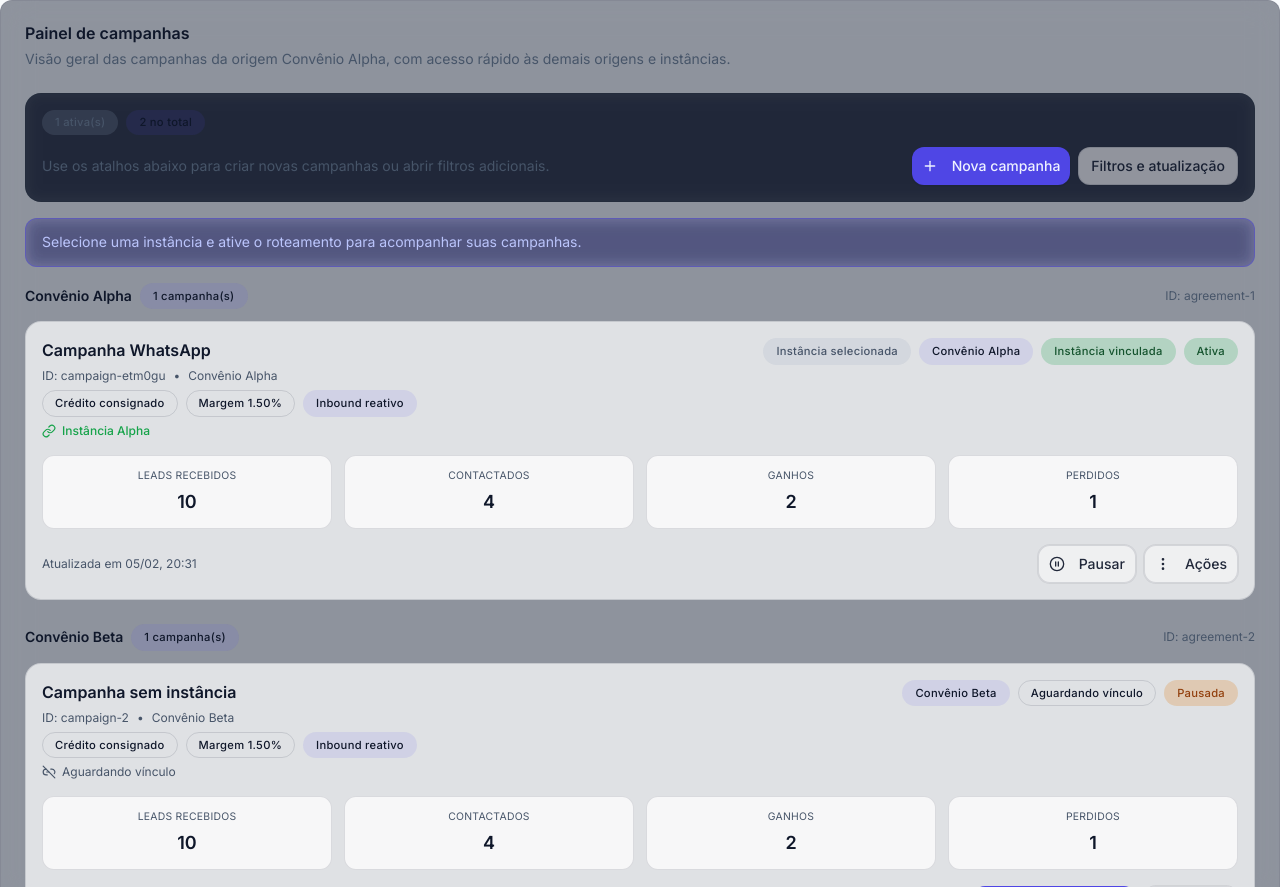
CampaignsPanel › exibe convênio, estado de vínculo e permite desvincular a instância
This screenshot has width=1280, height=887.
Expected: the text "Convênio Alpha" is shown, [25,50,730,67]
Expected: the text "Convênio Beta" in the row of "agreement-2" is shown, [25,628,123,645]
Click the button "Ações" below "Instância selecionada": (1191, 564) [1144,545,1238,583]
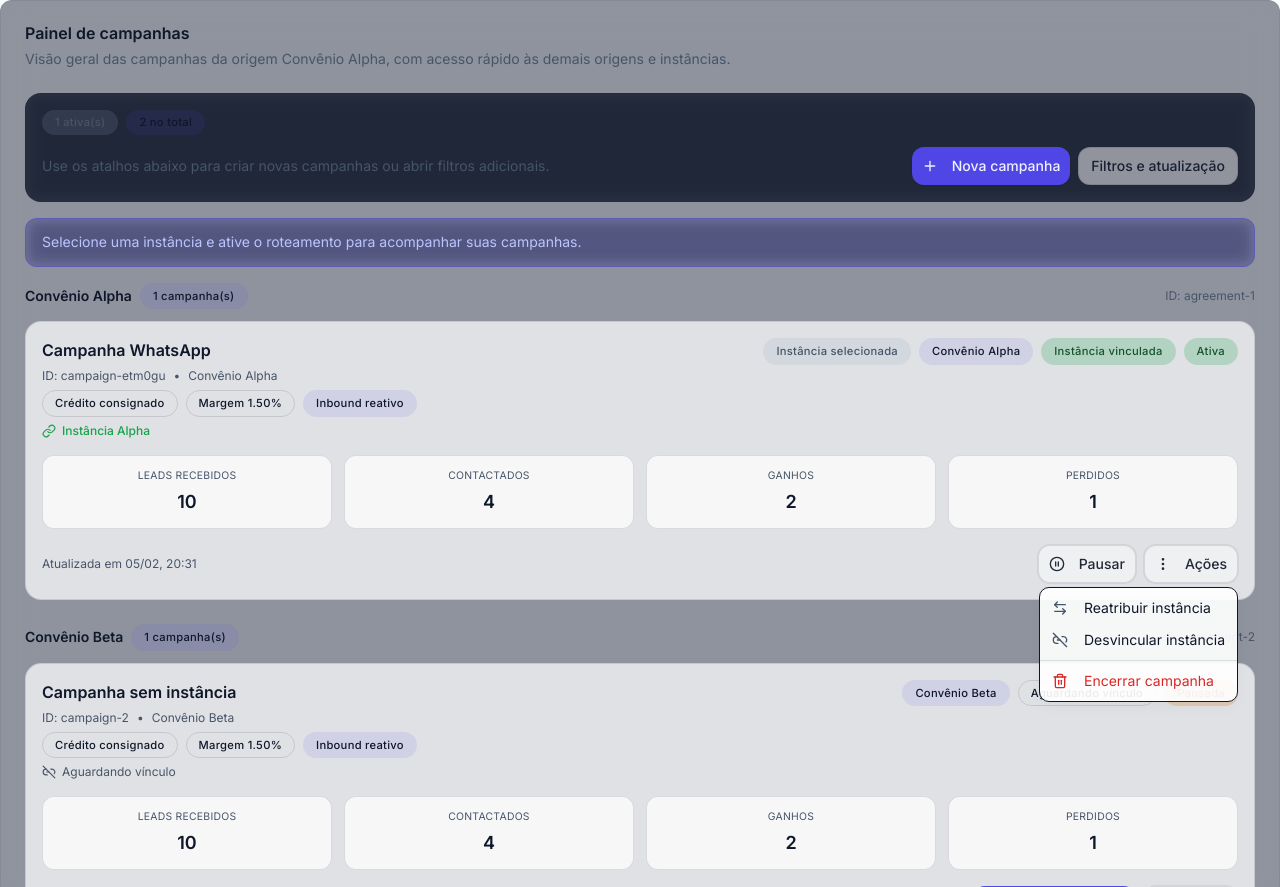
Click the menu item "Desvincular instância": (1138, 640) [1052,631,1225,648]
(page scrolled)
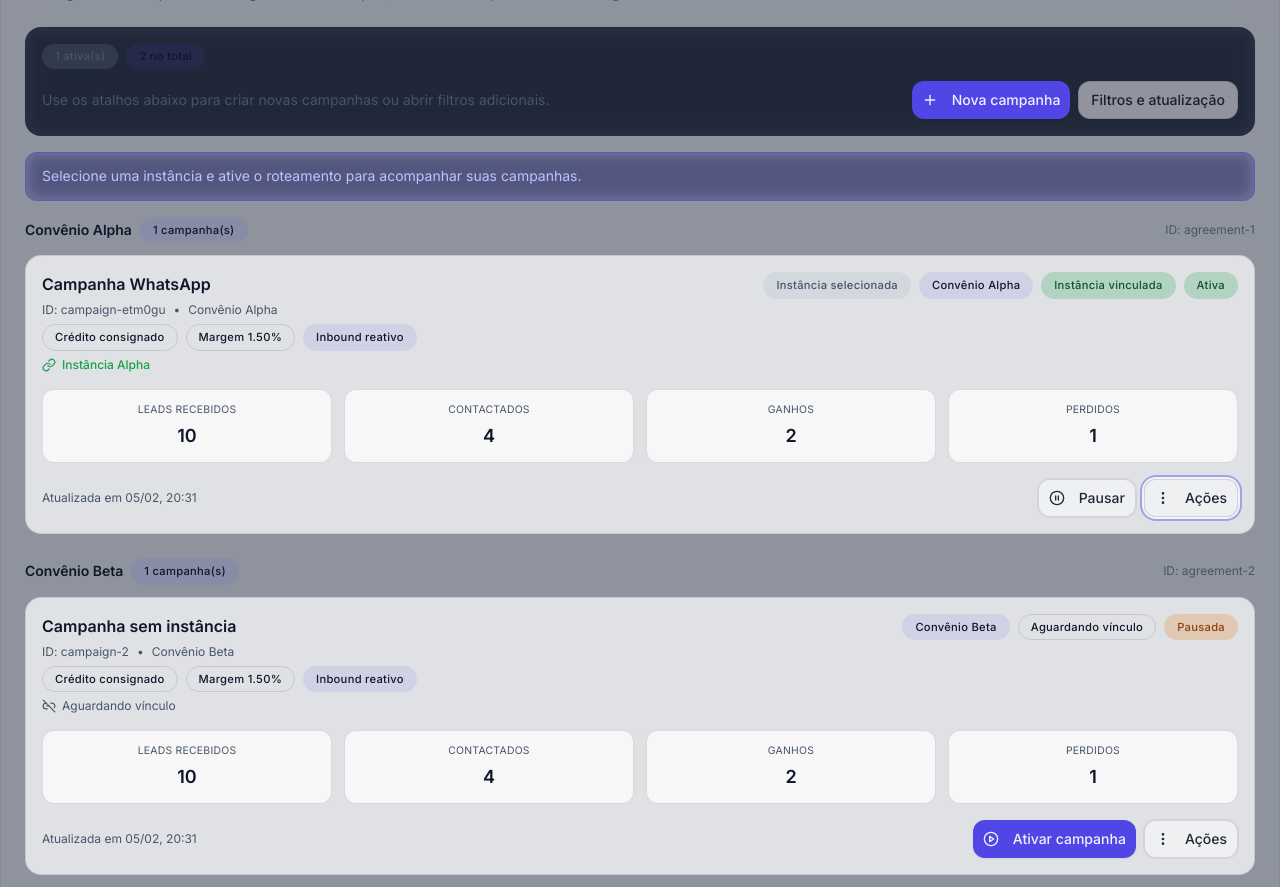
Click the button "Ações" below "Pausada": (1191, 839) [1144,820,1238,858]
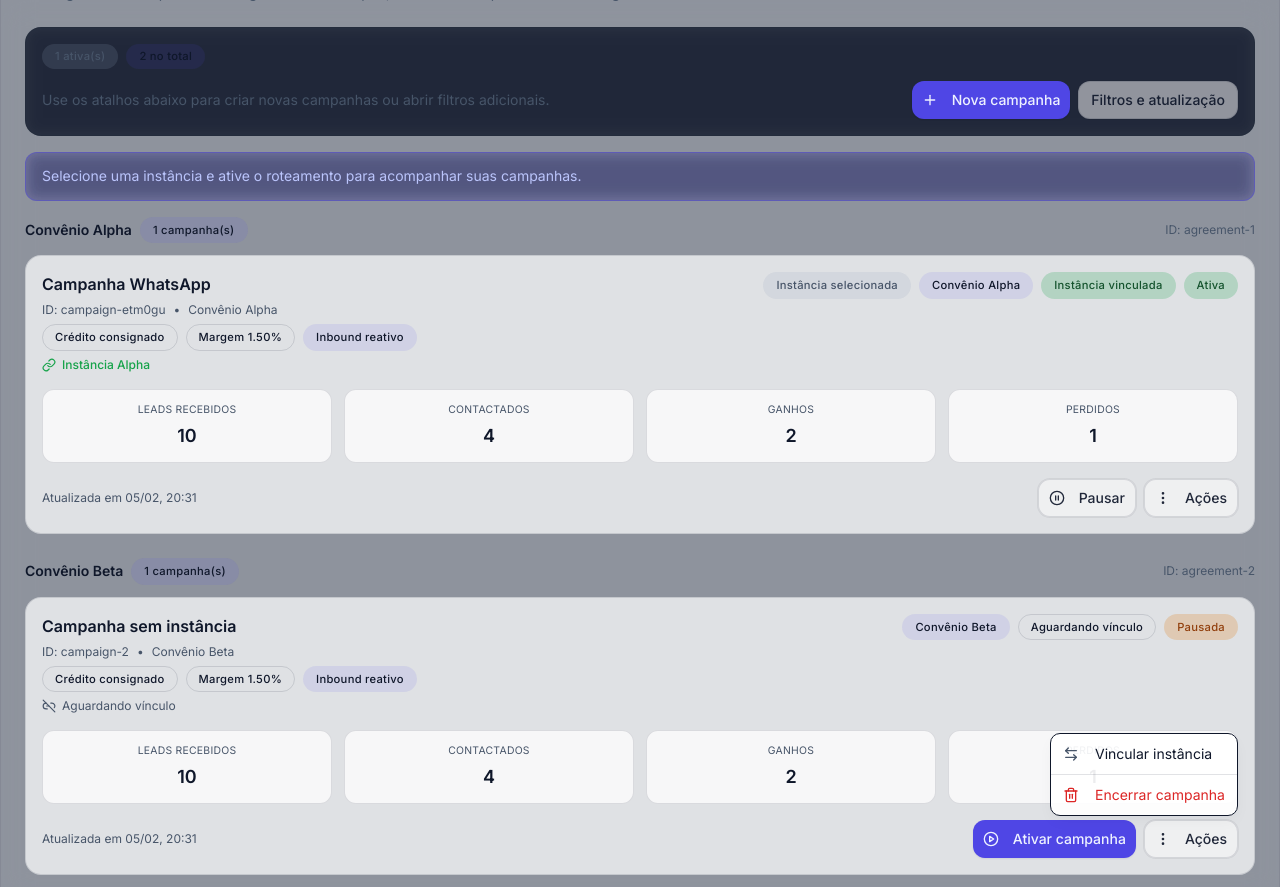
Expected: the menu item "Vincular instância" is shown, [1063,745,1212,762]
